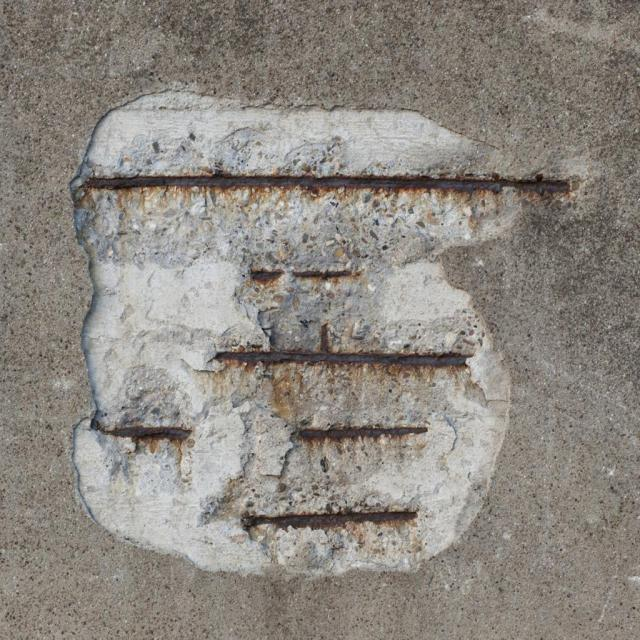Rebar: (68, 87, 571, 578)
